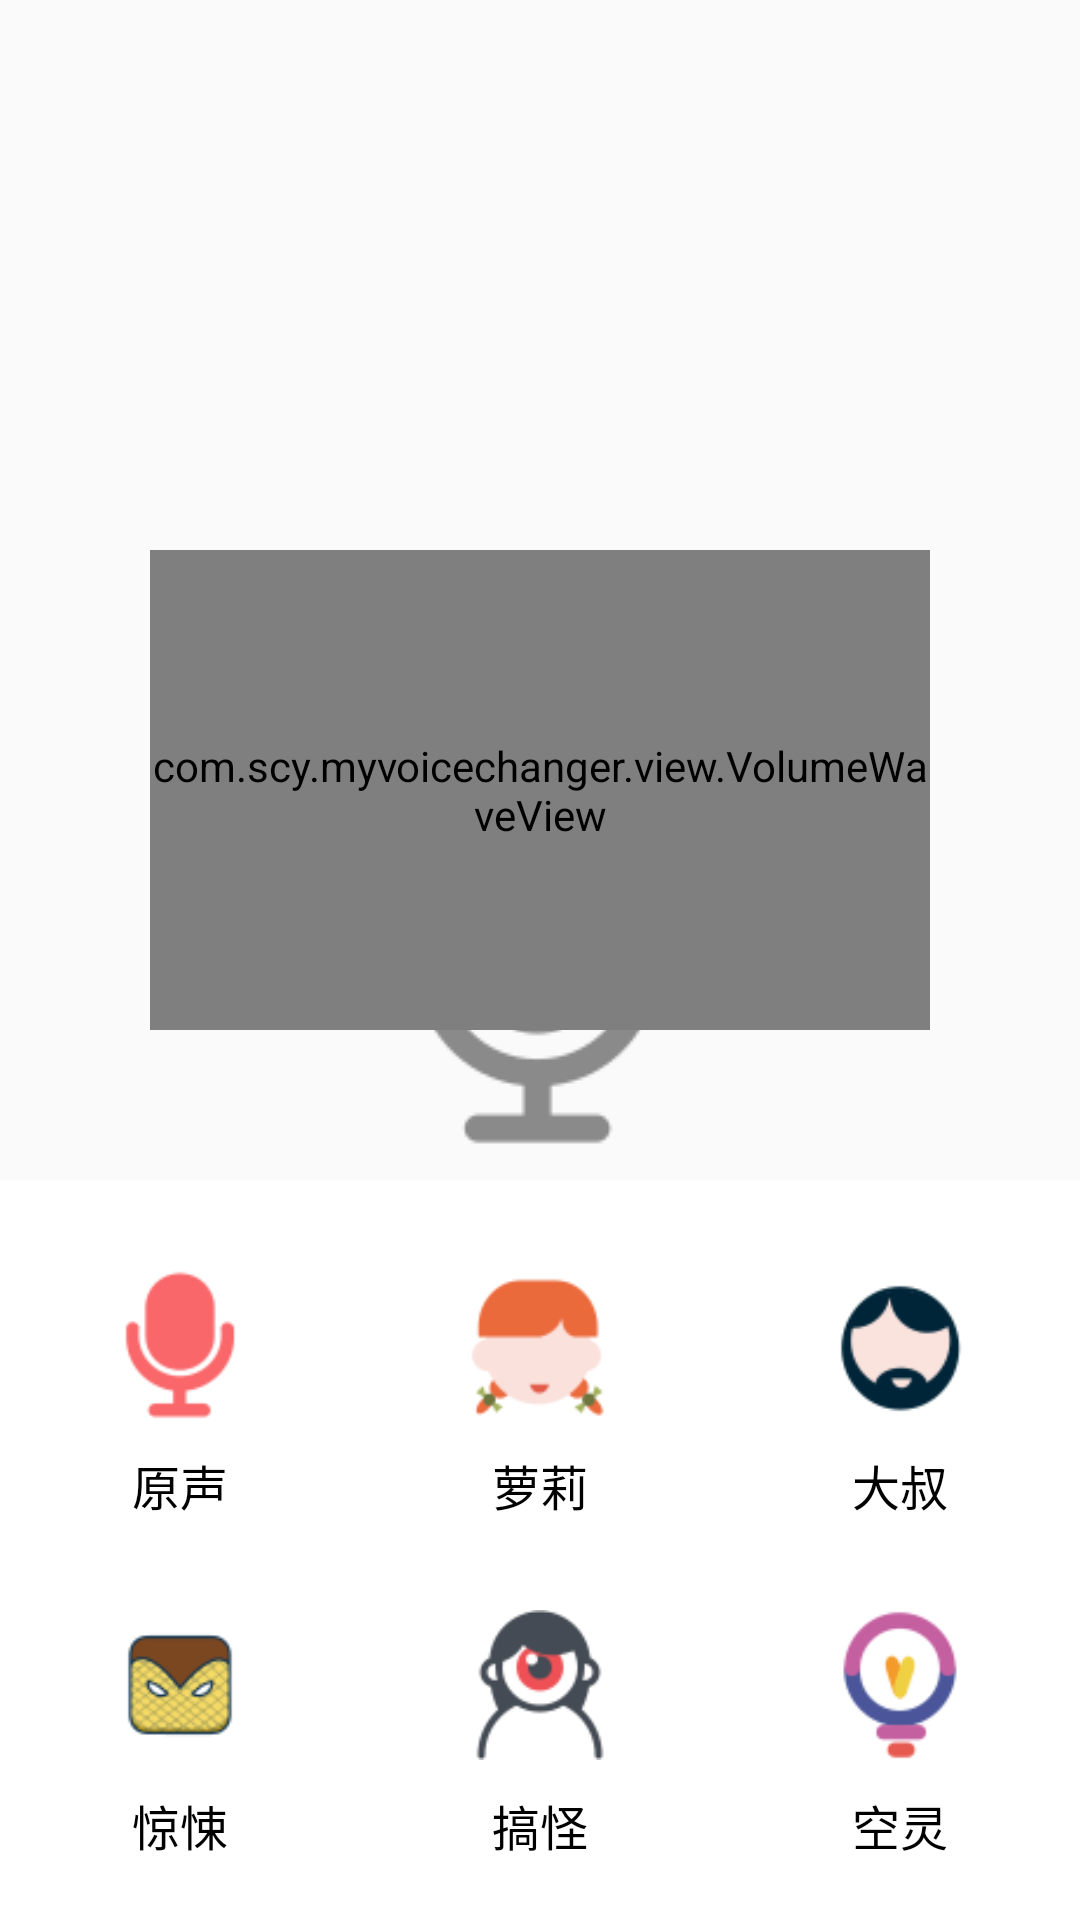

Named icons in this screenshot (1080x1920) and their centers, point (x, y):
dashu: point (900, 1348)
jingsong: point (180, 1685)
luoli: point (538, 1347)
